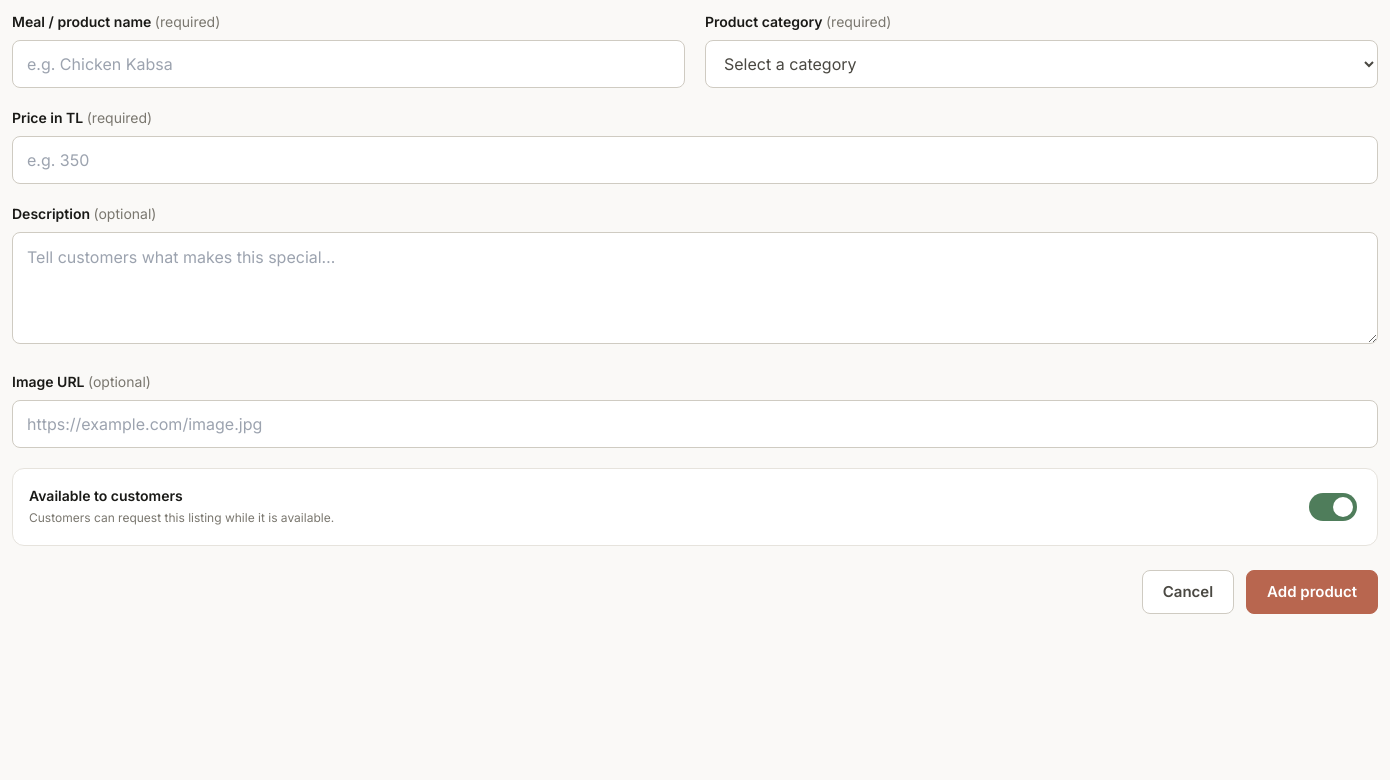
Scenario: listing form validation › rejects invalid product values
The image size is (1390, 780).
What coordinates should you click on to do the following:
click the button "Add product"
I would click on:
 (1312, 592)
Its box is x1=1246 y1=570 x2=1378 y2=614.
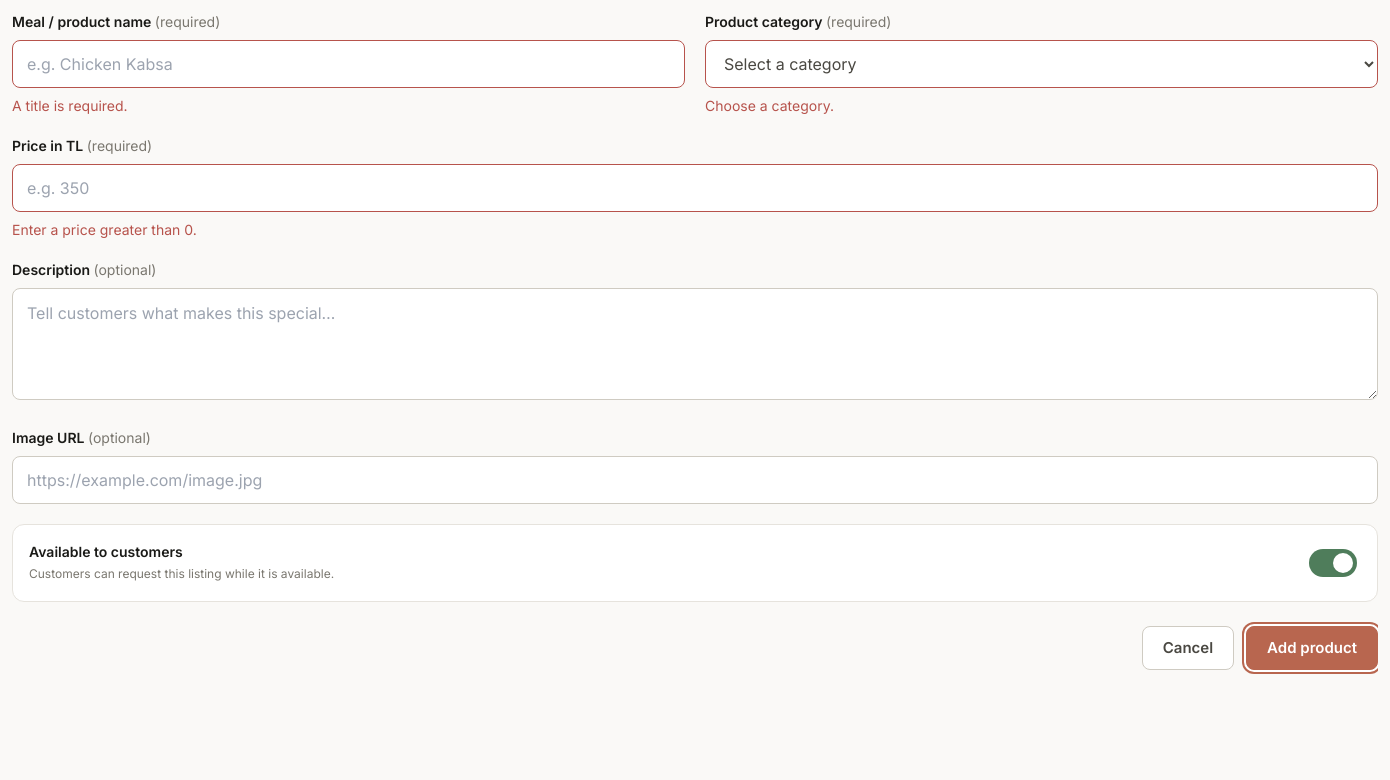
Expected: the text "A title is required." is shown, x1=12 y1=97 x2=128 y2=114
Expected: the text "Choose a category." is shown, x1=705 y1=97 x2=834 y2=114
Expected: the text "Enter a price greater than 0." is shown, x1=12 y1=221 x2=197 y2=238
